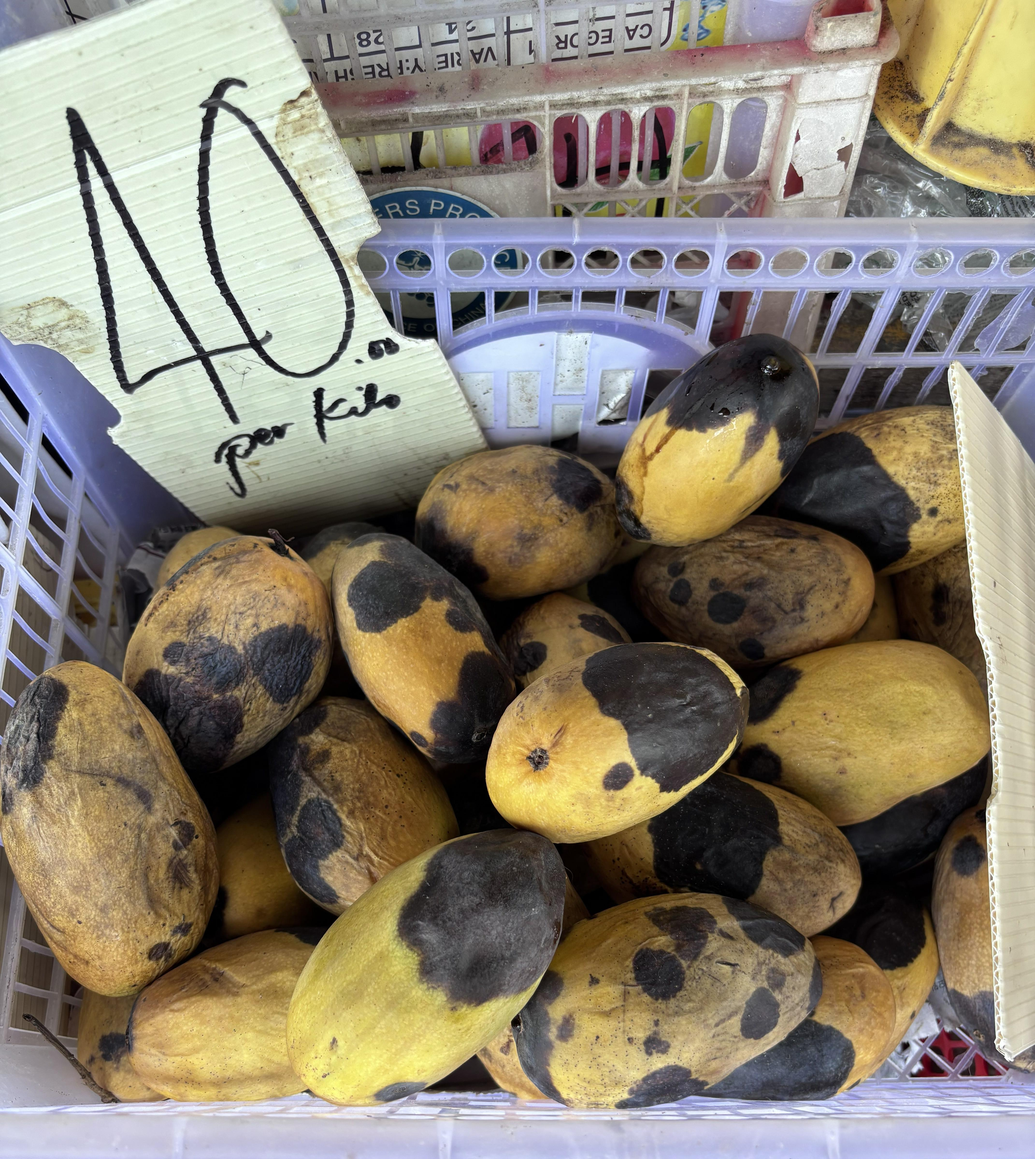mango: (287, 829, 567, 1105), (0, 662, 219, 996), (487, 643, 748, 844), (615, 334, 819, 547)
occluded: (514, 893, 822, 1109), (122, 533, 333, 778), (729, 639, 990, 826), (584, 772, 861, 937), (332, 532, 516, 763), (268, 697, 458, 916), (630, 515, 874, 672), (126, 927, 323, 1100), (772, 406, 964, 574), (415, 445, 622, 600), (704, 936, 896, 1100), (199, 792, 332, 950), (829, 886, 939, 1058), (932, 807, 999, 1058), (891, 539, 987, 700), (501, 593, 630, 688), (78, 990, 160, 1102), (300, 522, 379, 597), (157, 526, 242, 587), (477, 1025, 541, 1099), (848, 577, 900, 642)
